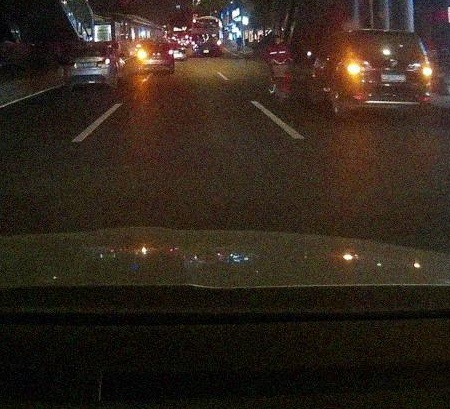L_light: (347, 64, 367, 75), (138, 51, 145, 58), (67, 61, 76, 66)
R_light: (412, 66, 431, 77), (97, 59, 110, 65), (166, 50, 173, 58)
T_light: (378, 33, 391, 37), (88, 48, 96, 51), (152, 45, 159, 47)
night-left: (137, 43, 174, 73)
night-no: (347, 28, 432, 117)
night-right: (67, 46, 112, 91)
